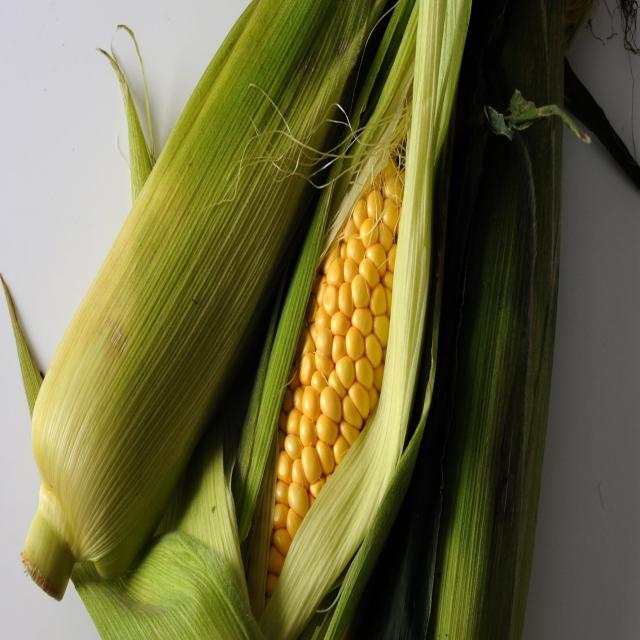corn: (252, 127, 416, 607)
